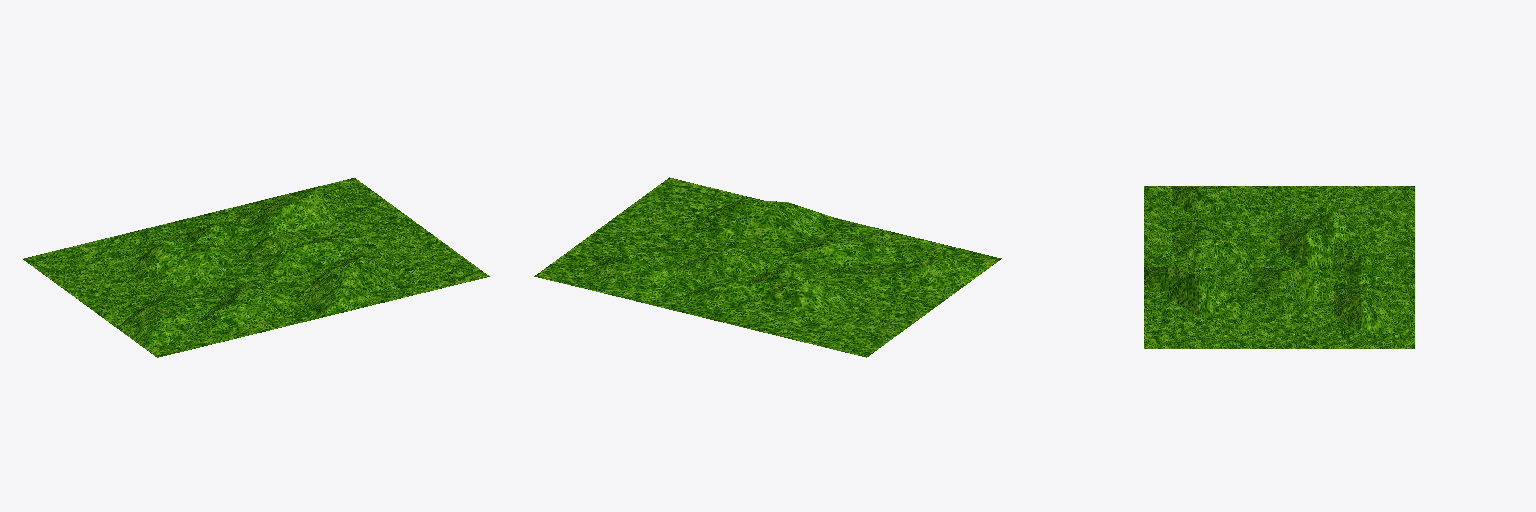
3 renders of one model, left to right at view 1: azimuth 30°, elevation 25°; view 2: azimuth 150°, elevation 25°; view 3: azimuth 270°, elevation 25°, orthographic.
Parts seen in each view (by area): view 1: Plane01; view 2: Plane01; view 3: Plane01.
Boxes of the visible parts, box(x1,y1,x2,y2) form: Plane01: box(22, 177, 489, 357); Plane01: box(534, 177, 1001, 357); Plane01: box(1144, 186, 1415, 348).
Size of the model in its own units: 218 by 14.6 by 154.
1 materials, 1 textured.